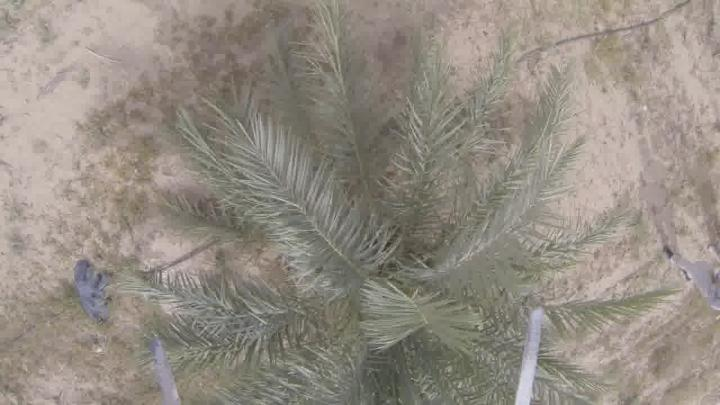Date-Palm-Crown: (232, 163, 522, 405)
